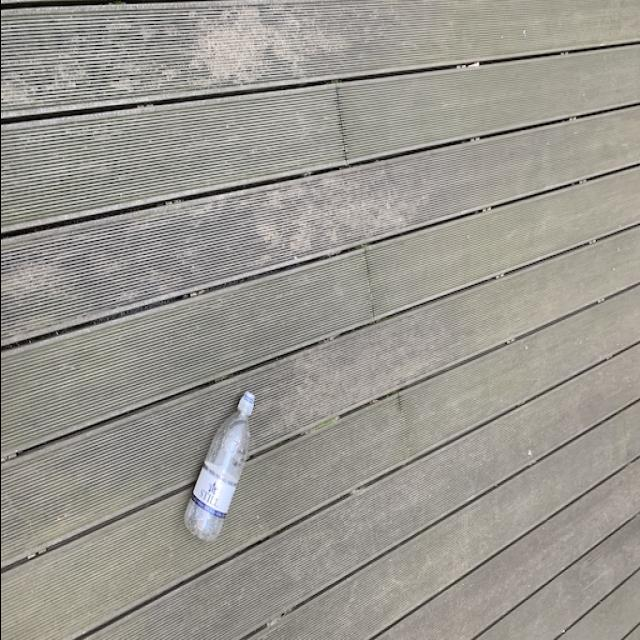PET: (179, 390, 253, 544)
